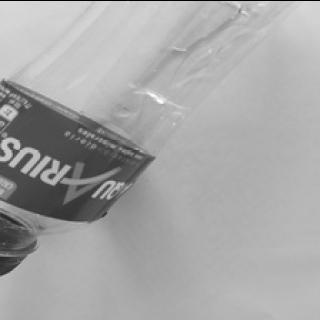plastic_bottles: (0, 0, 279, 278)
